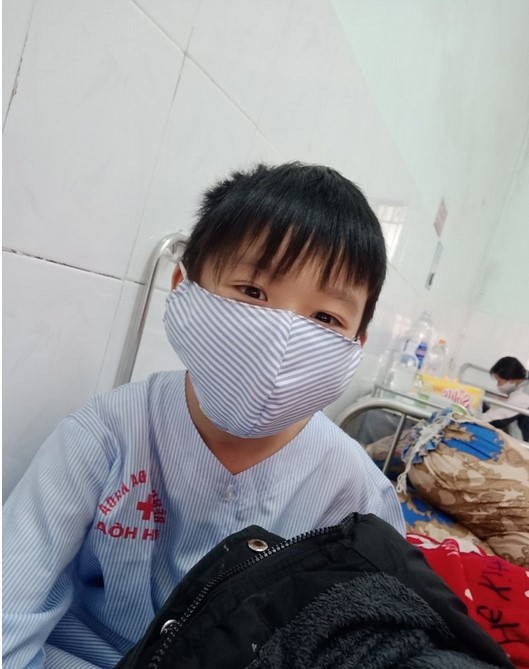face_with_mask: (162, 161, 384, 442)
